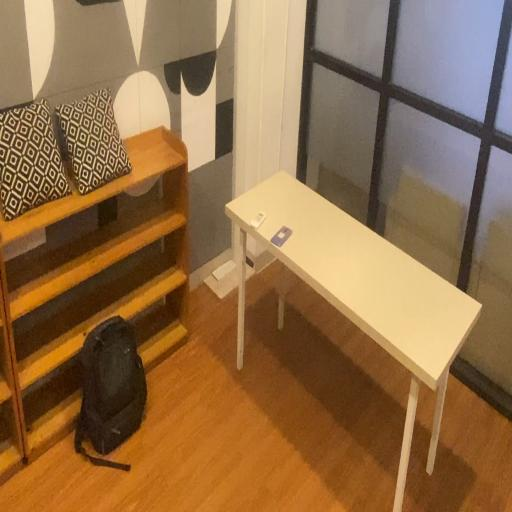bantal: (0, 96, 74, 231), (56, 86, 134, 197)
hp: (270, 221, 295, 251)
remote AC: (249, 207, 267, 233)
tas ransel: (77, 312, 150, 464)
